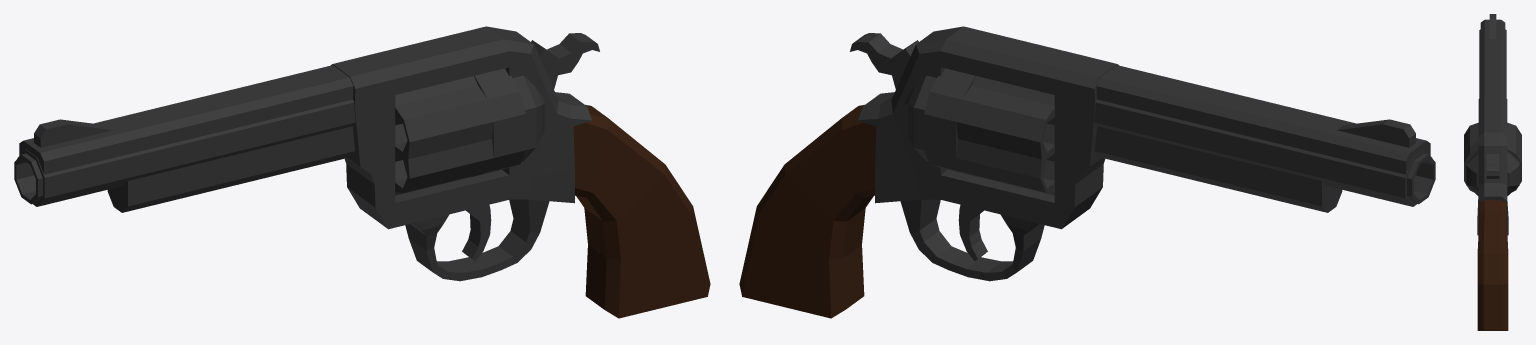
The model's file is Revolver.fbx.
3 views of the same model, side by side, from view 1: azimuth 30°, elevation 25°; view 2: azimuth 150°, elevation 25°; view 3: azimuth 270°, elevation 25° (orthographic). The views are drawn at different scales.
Visible parts, largest first — view 1: Revolver_1; view 2: Revolver_1; view 3: Revolver_1.
Part boxes in pixels (box(x1,y1,x2,y2)): Revolver_1: box(14, 26, 710, 318); Revolver_1: box(739, 26, 1435, 318); Revolver_1: box(1464, 14, 1521, 330).
Size of the model in its own units: 198 by 88.98 by 29.44.
